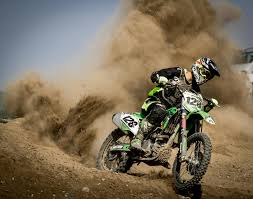motorcycle: (97, 76, 222, 191)
